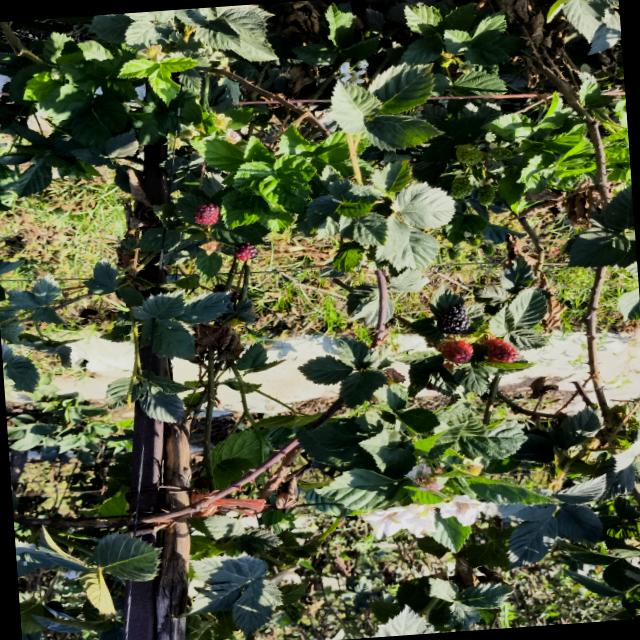flor: (439, 495, 485, 525), (362, 507, 403, 538)
maduro: (437, 304, 470, 333)
marron: (194, 203, 219, 225), (234, 241, 257, 260)
naranja: (482, 338, 519, 362), (441, 340, 473, 363)
